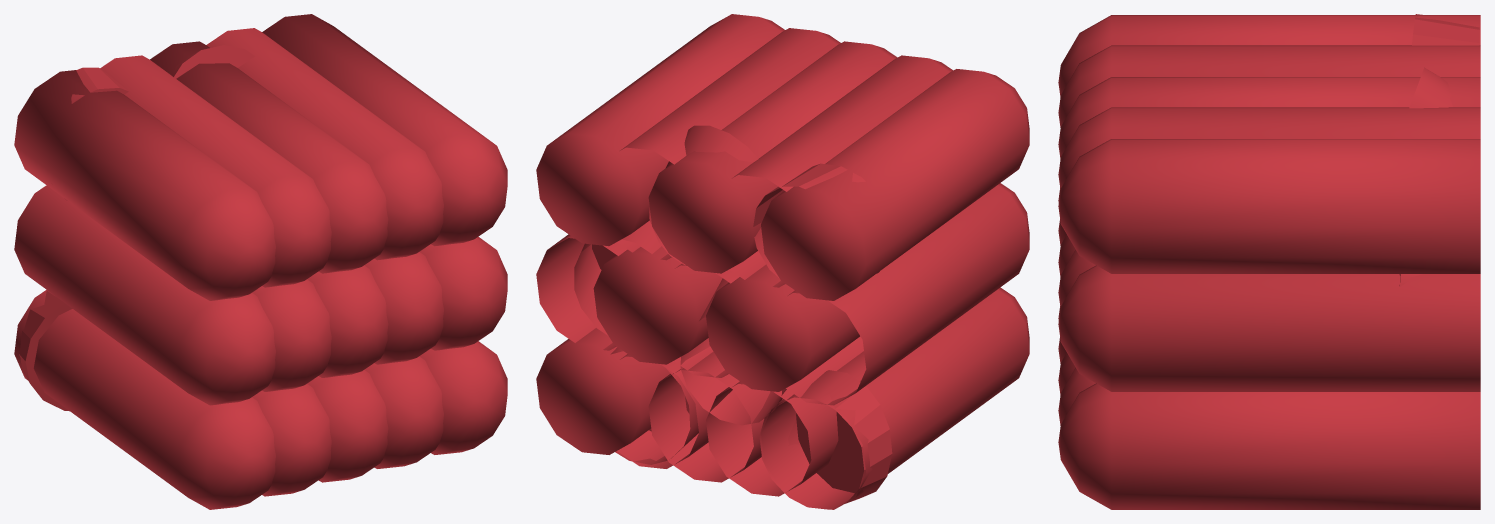
The model's file is airhockey_grass_geo.glb.
The picture shows the model from 3 angles, left to right: view 1: azimuth 30°, elevation 25°; view 2: azimuth 150°, elevation 25°; view 3: azimuth 270°, elevation 25°; orthographic projection. The views are drawn at different scales.
Visible parts, largest first — view 1: grass_1, grass_1b, grass_1_destroyed; view 2: grass_1, grass_1b, grass_1_destroyed; view 3: grass_1, grass_1b, grass_1_destroyed.
Part boxes in pixels (x1,y1,x2,y2): grass_1: (14, 14, 507, 509); grass_1b: (14, 28, 507, 496); grass_1_destroyed: (19, 45, 255, 411); grass_1: (536, 14, 1029, 509); grass_1b: (536, 28, 1029, 496); grass_1_destroyed: (574, 125, 892, 509); grass_1: (1058, 15, 1480, 509); grass_1b: (1058, 45, 1480, 425); grass_1_destroyed: (1399, 14, 1479, 286).
Bounding box in the file's own units: 1.08 × 1.05 × 1.04.
